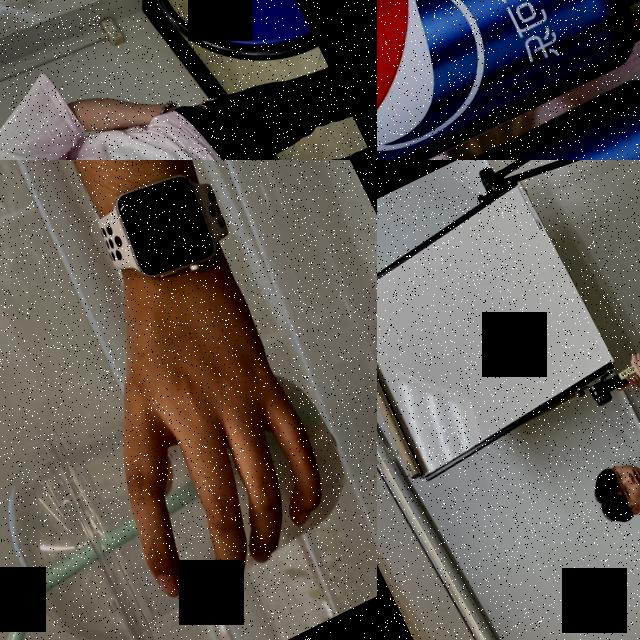can: (377, 0, 640, 160), (377, 53, 640, 160)
cup: (0, 313, 377, 640)
